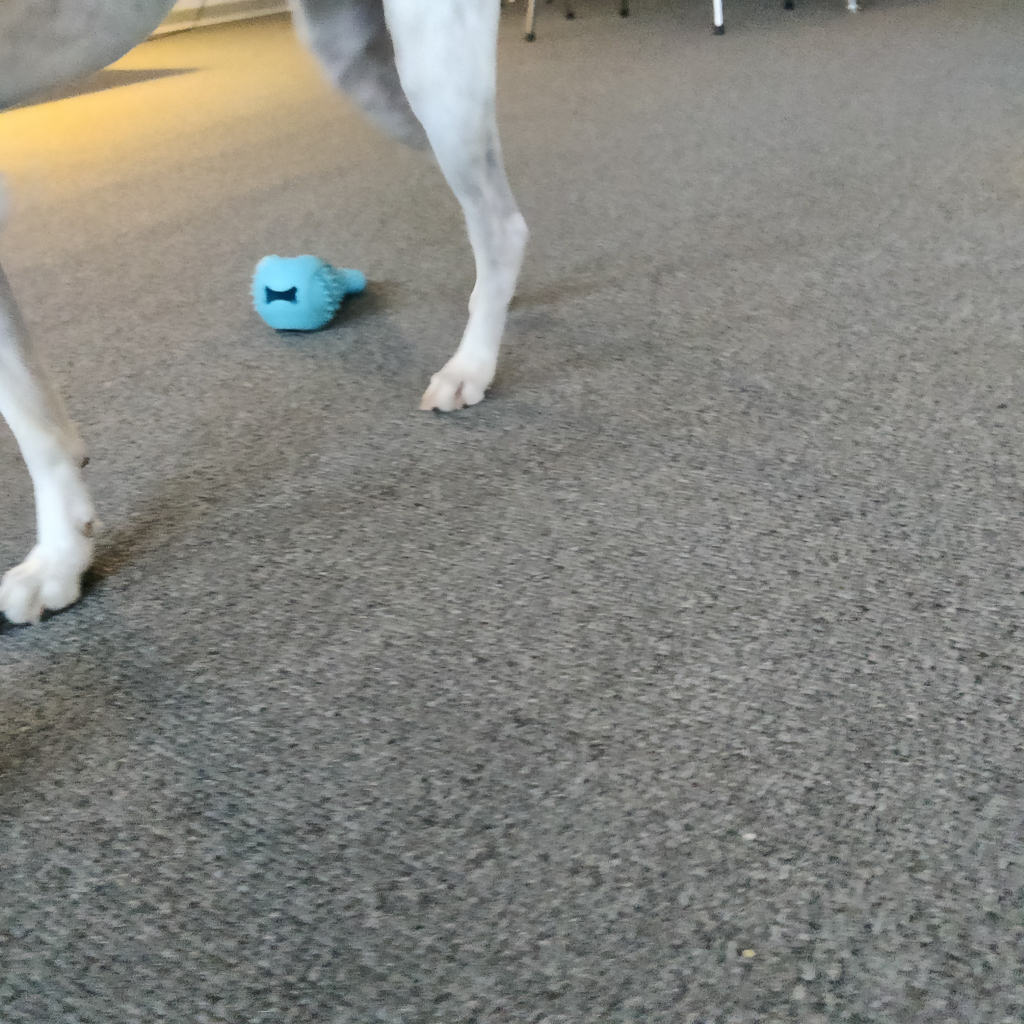Dog: (0, 0, 547, 644)
